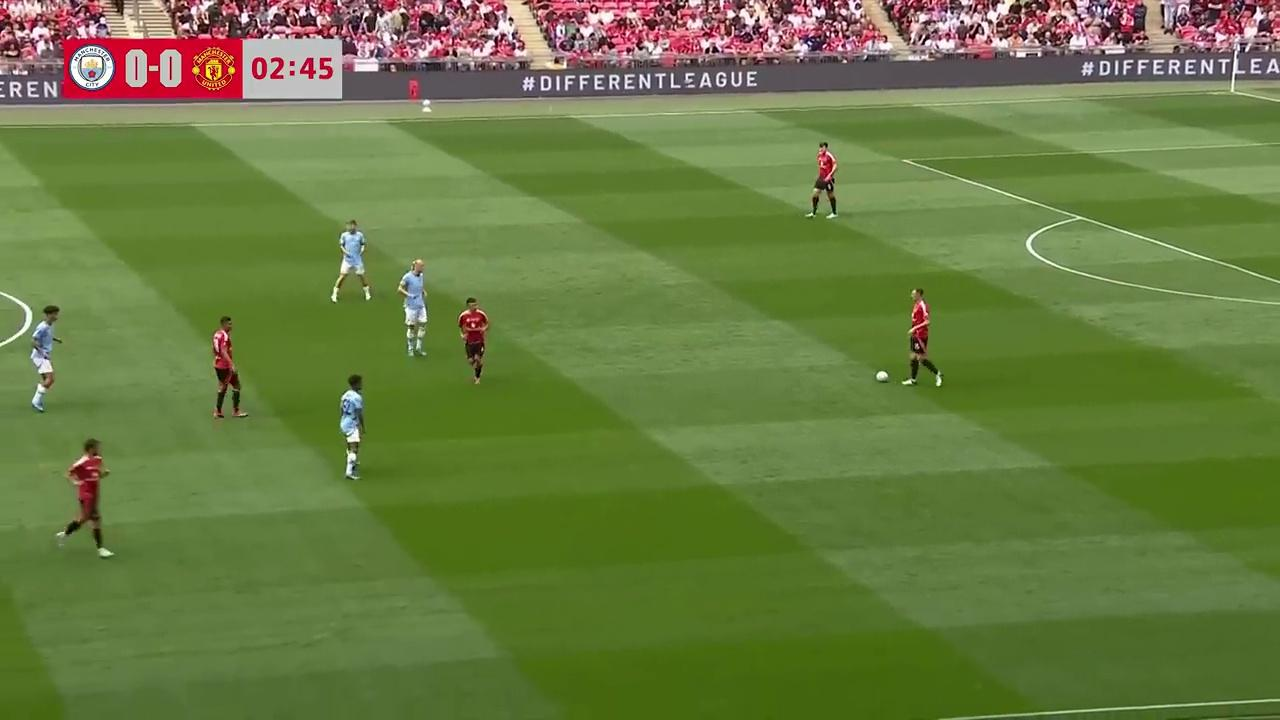ball: (874, 366, 890, 383)
player: (52, 438, 112, 556), (902, 288, 943, 388), (29, 304, 63, 412), (330, 219, 372, 304), (212, 316, 245, 421), (396, 257, 428, 357), (457, 296, 489, 386), (339, 375, 365, 480), (807, 144, 838, 218)
